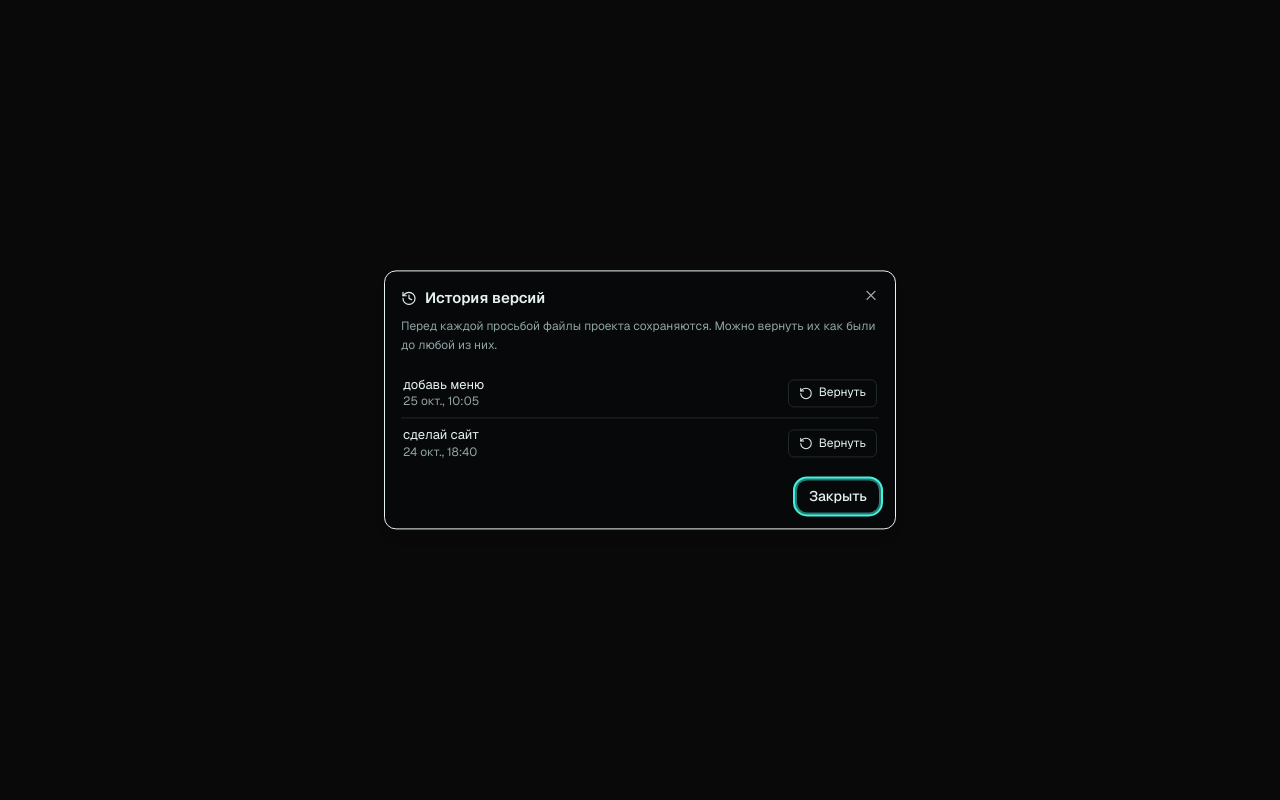
Test case: VersionHistoryDialog › shows core's refusal in plain words
Click the button with test id "version-history-restore" in the row of "добавь меню" at (832, 393), box [788,379,877,407]
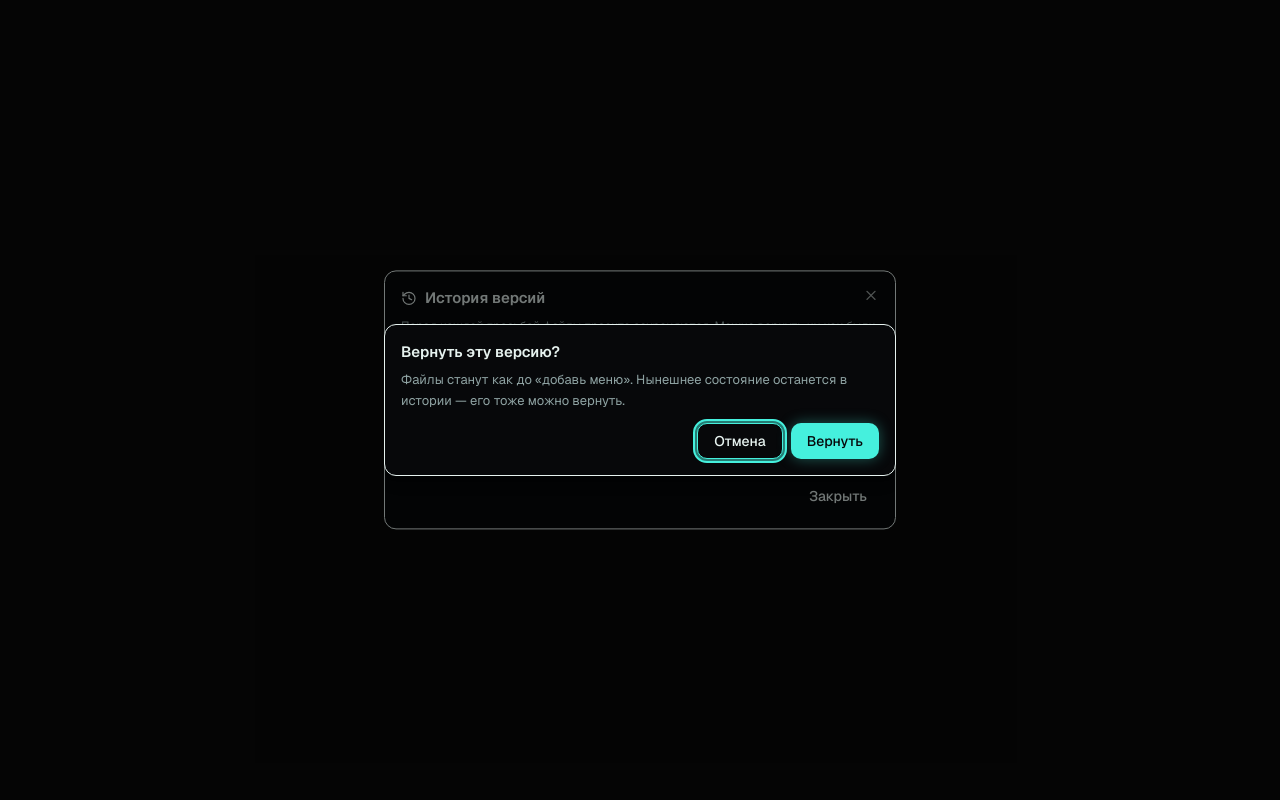
Click the button "Вернуть" at (835, 441), box [791,423,879,459]
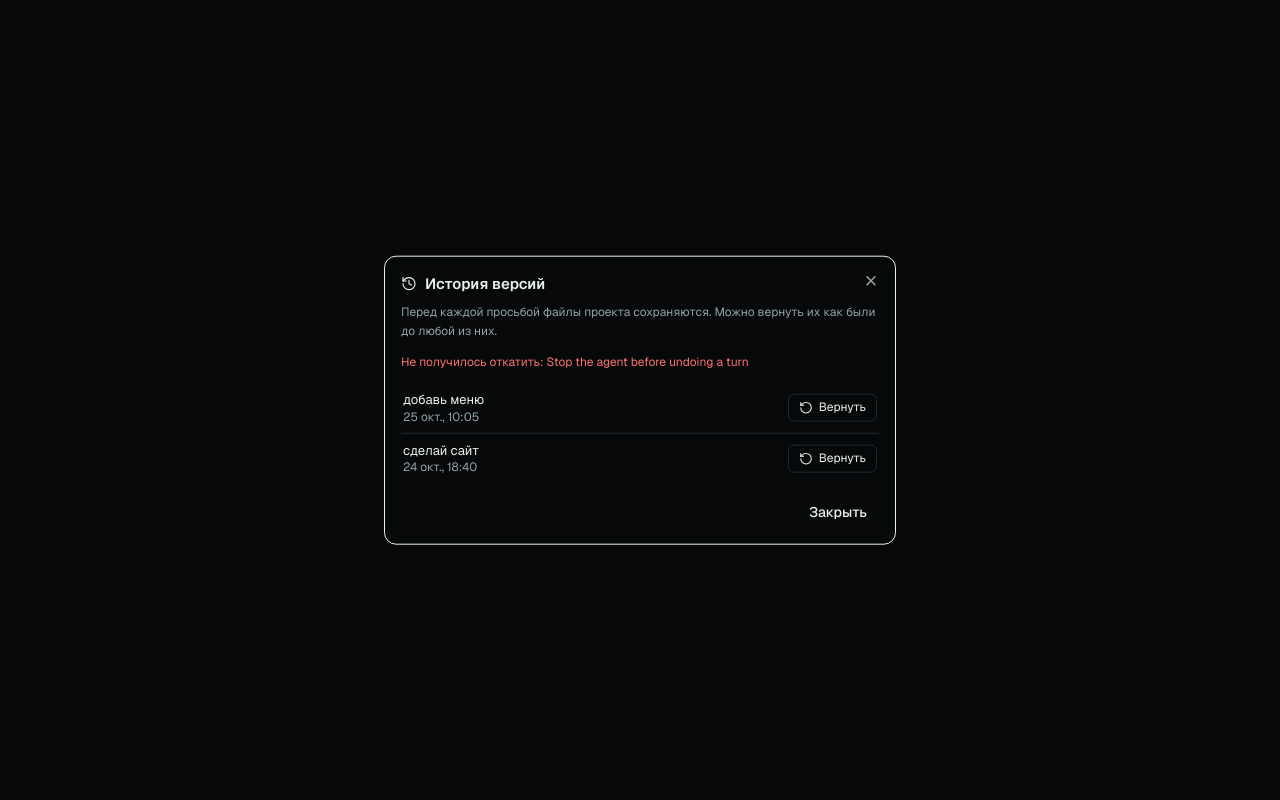
Now the message shows "Не получилось откатить", box [401,353,749,369]
